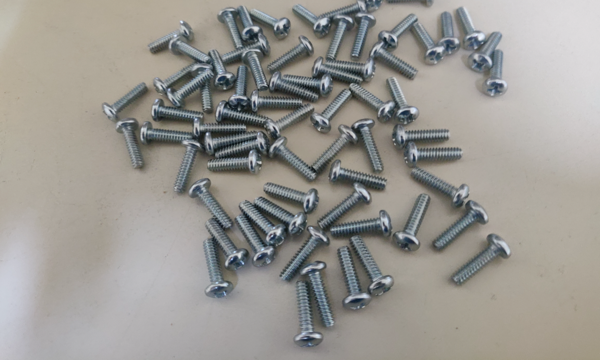shortscrew: (451, 233, 512, 287), (432, 201, 490, 253), (280, 227, 331, 284), (350, 235, 394, 296), (409, 168, 471, 209), (318, 183, 372, 229), (312, 124, 359, 175), (205, 219, 250, 272), (300, 261, 335, 329), (238, 200, 287, 248), (189, 178, 234, 230), (393, 194, 432, 252), (268, 137, 318, 181), (236, 214, 277, 267), (254, 196, 308, 236), (338, 246, 371, 311), (311, 88, 354, 134), (294, 281, 323, 349), (329, 160, 389, 192), (102, 82, 149, 122), (369, 42, 419, 79), (263, 183, 320, 215), (167, 71, 214, 109), (173, 140, 205, 195), (352, 119, 384, 174), (265, 105, 315, 140), (204, 240, 233, 300), (266, 36, 314, 72), (331, 211, 393, 238), (386, 77, 420, 126), (404, 141, 463, 168), (312, 56, 366, 85), (148, 21, 194, 55), (378, 13, 418, 52), (154, 63, 201, 96), (215, 132, 269, 160), (116, 118, 145, 170), (219, 34, 271, 63), (393, 124, 450, 149), (326, 13, 355, 62), (414, 22, 446, 66), (204, 131, 260, 156), (469, 32, 503, 73), (208, 150, 263, 175), (292, 4, 332, 38), (141, 121, 193, 147), (216, 101, 268, 127), (482, 50, 509, 99), (457, 7, 487, 51), (350, 13, 377, 61), (250, 9, 291, 40), (251, 89, 303, 113), (325, 58, 377, 82), (242, 49, 270, 93), (170, 36, 213, 64), (191, 64, 215, 113), (210, 47, 236, 92), (192, 118, 247, 139), (228, 66, 251, 113), (218, 8, 244, 48), (238, 6, 264, 44), (438, 11, 460, 55), (322, 0, 367, 20), (345, 0, 384, 11), (386, 0, 435, 7)
